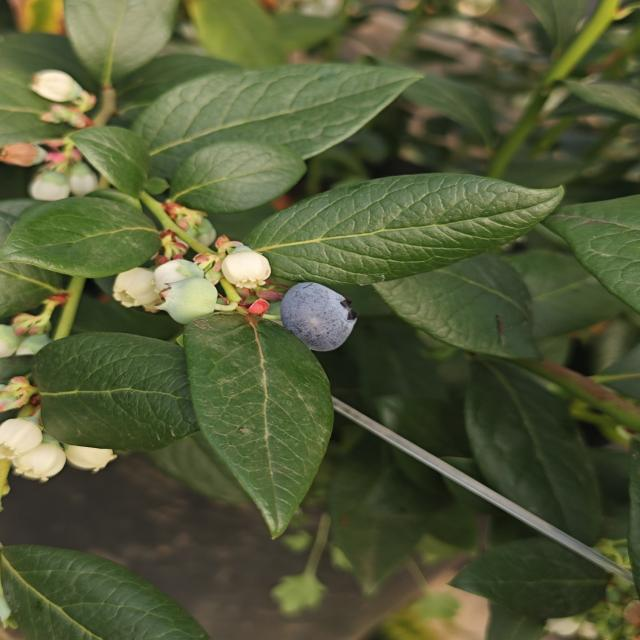ripe: (271, 275, 363, 355)
